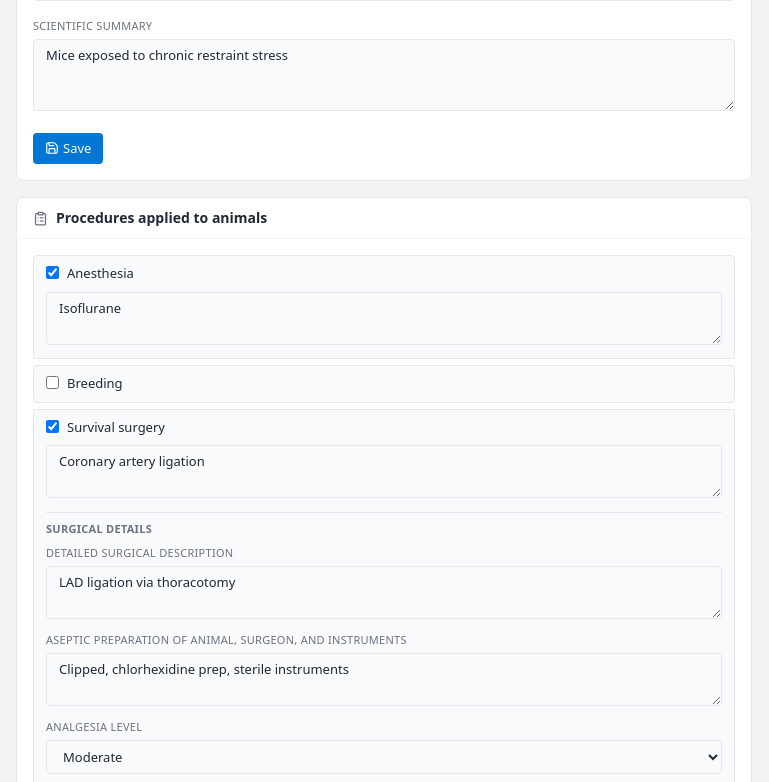
Test case: ApplicationPage › checking a procedure reveals a narrative field and Save sends the checklist
(page scrolled)
Click the checkbox labelled "Breeding": (52,382) [46,376,59,389]
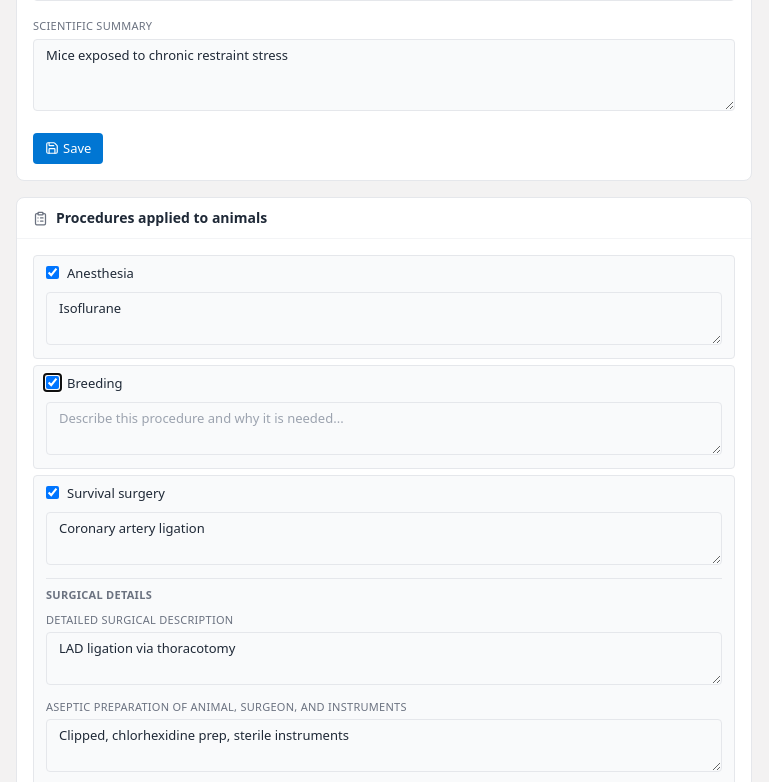
In the text box named "Breeding description": (384,428) [46,402,722,454], type "Breeding to maintain colony"
(page scrolled)
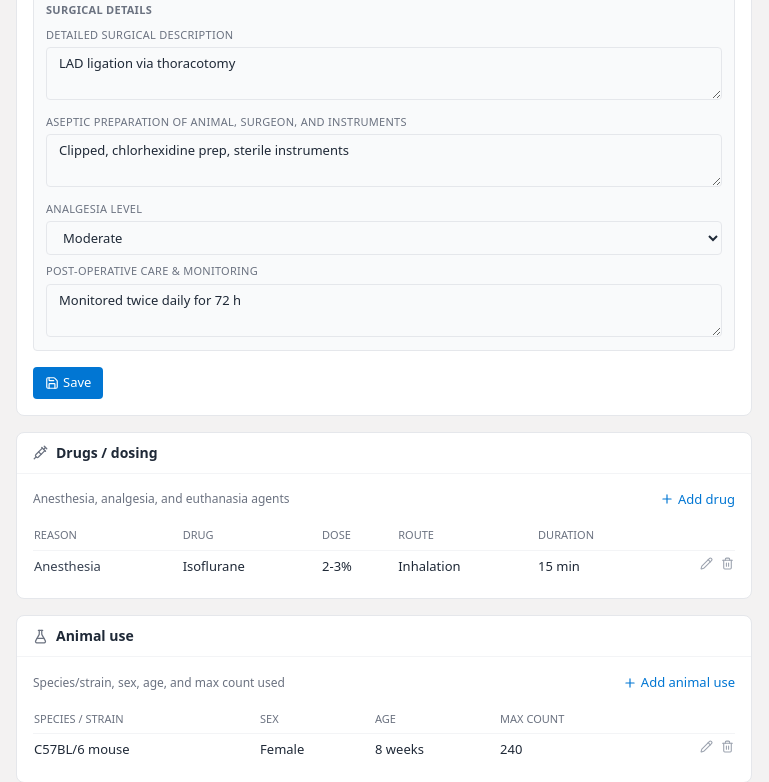
Click the button with aria-label "Save procedures": (68,383) [33,367,103,398]
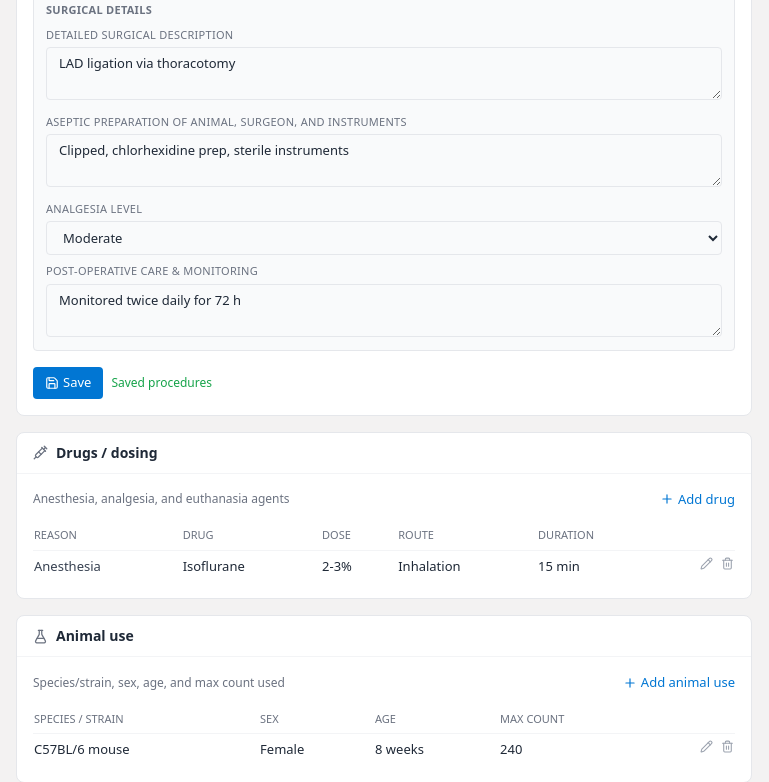
Expected: the text "Saved procedures" is shown, [111,374,212,392]
